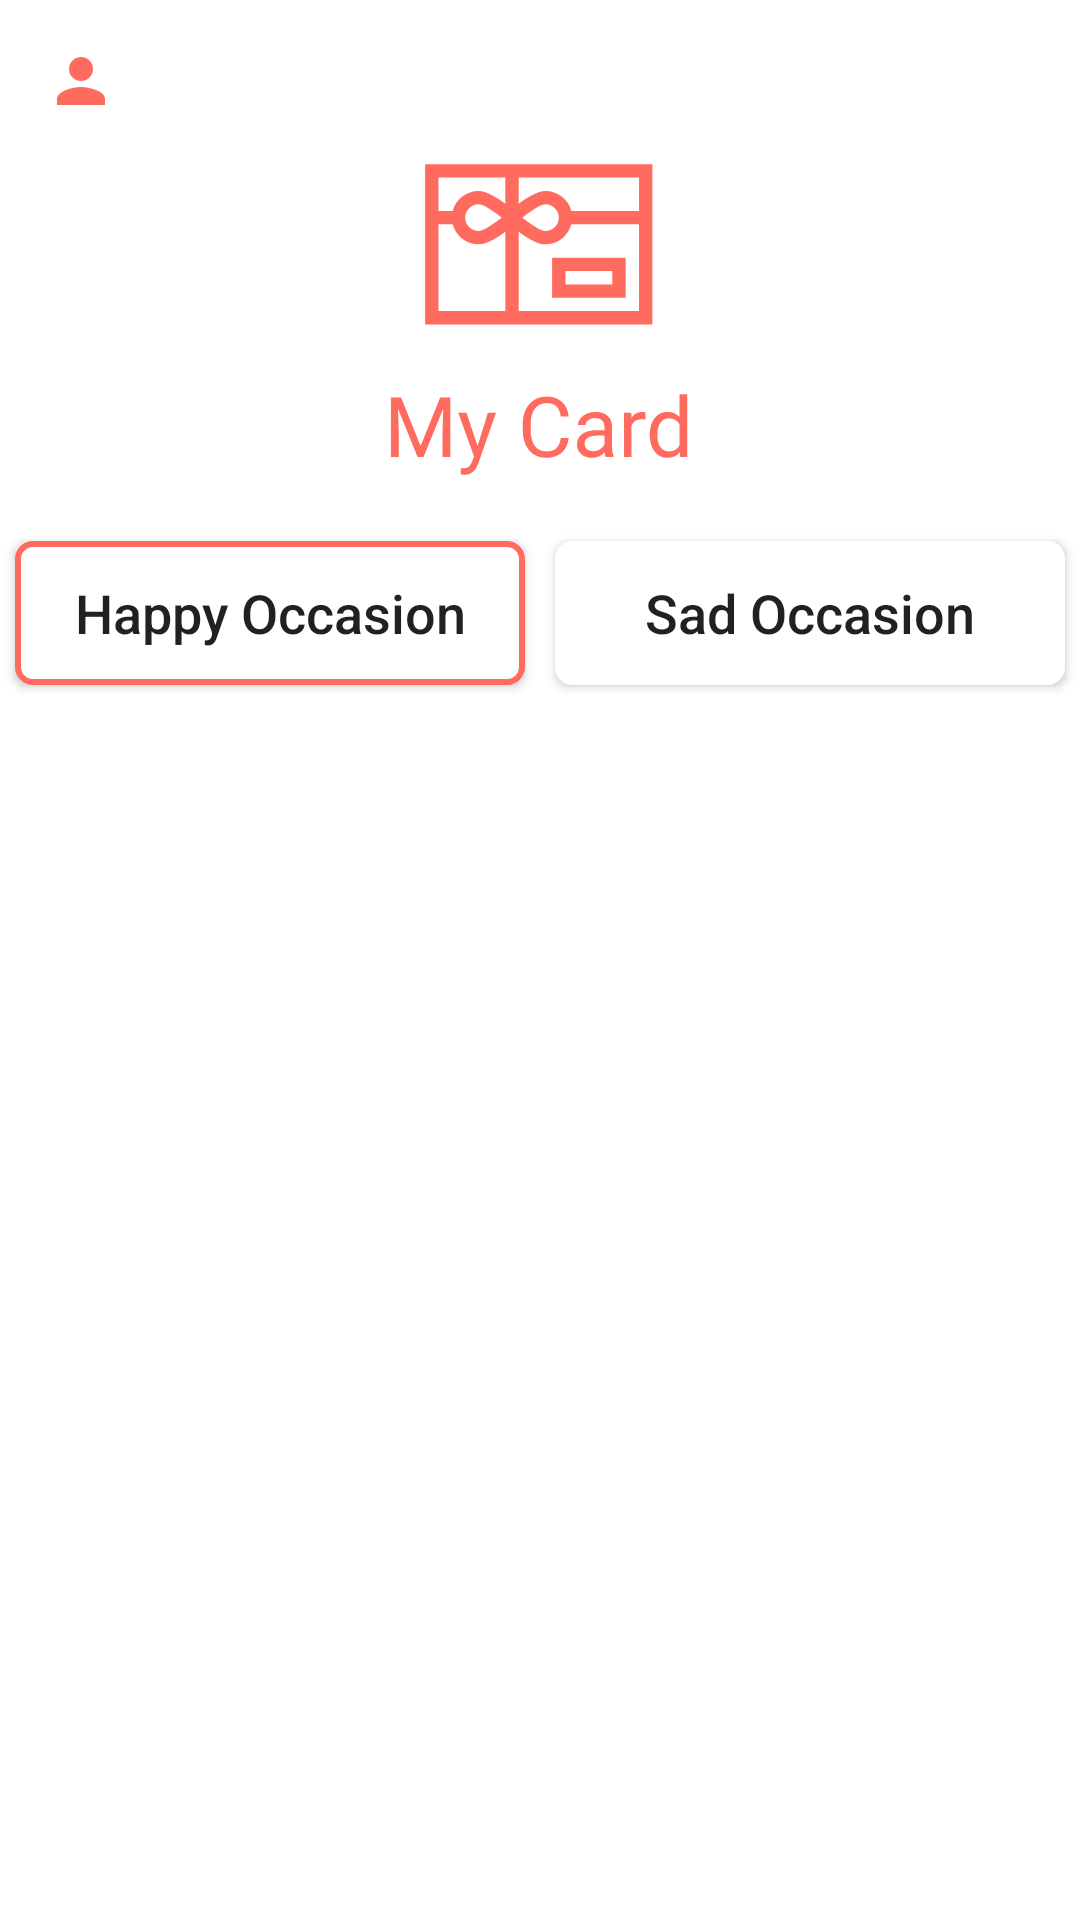

Screen size 1080×1920. Icon name, then its box in pixels as box(x1, y1, x2, y2):
person: box(57, 57, 105, 105)
